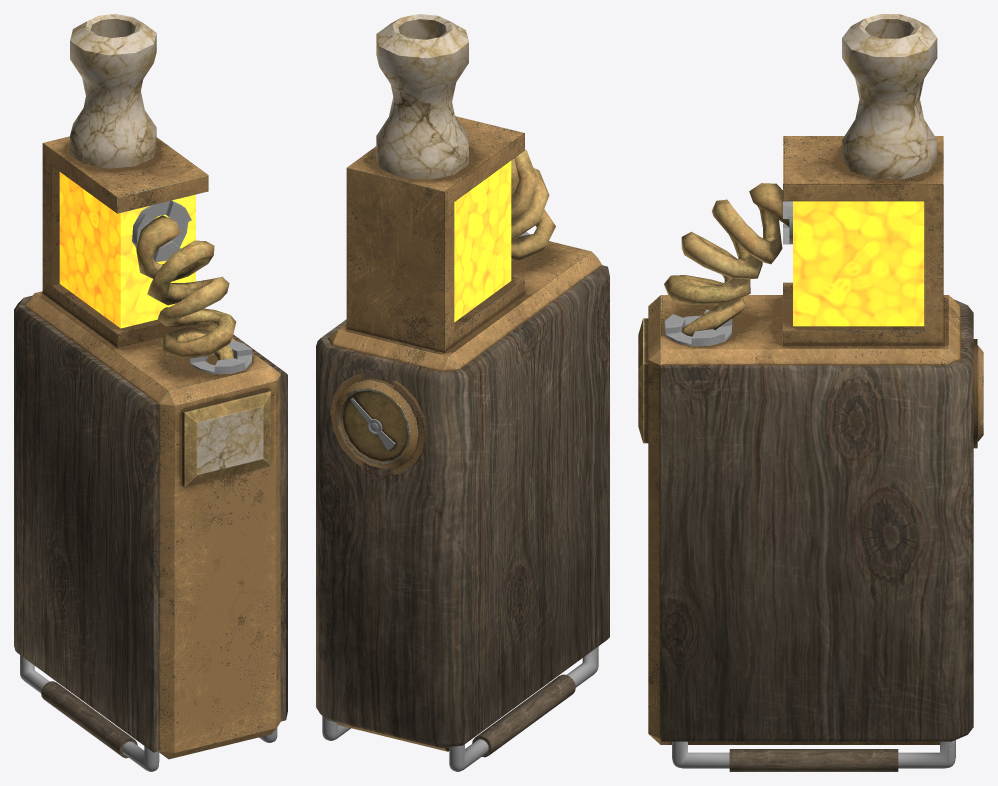
The model's file is steampunk_vape.glb.
3 views of the same model, side by side, from view 1: azimuth 30°, elevation 25°; view 2: azimuth 150°, elevation 25°; view 3: azimuth 270°, elevation 25° (orthographic). The views are drawn at different scales.
Parts seen in each view (by area): view 1: Vape; view 2: Vape; view 3: Vape.
Part boxes in pixels (x1=…): Vape: x1=14, y1=14, x2=287, y2=771; Vape: x1=316, y1=14, x2=609, y2=771; Vape: x1=638, y1=14, x2=983, y2=771.
Bounding box in the file's own units: 0.4488 × 2 × 0.8779.
Materials: 1 (1 with a texture image).
